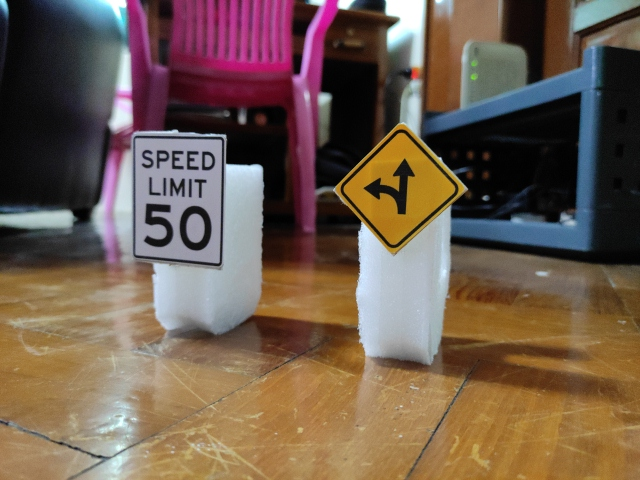Speed Limit 50: (131, 132, 226, 269)
Straight Or Left Sign: (335, 127, 464, 252)
